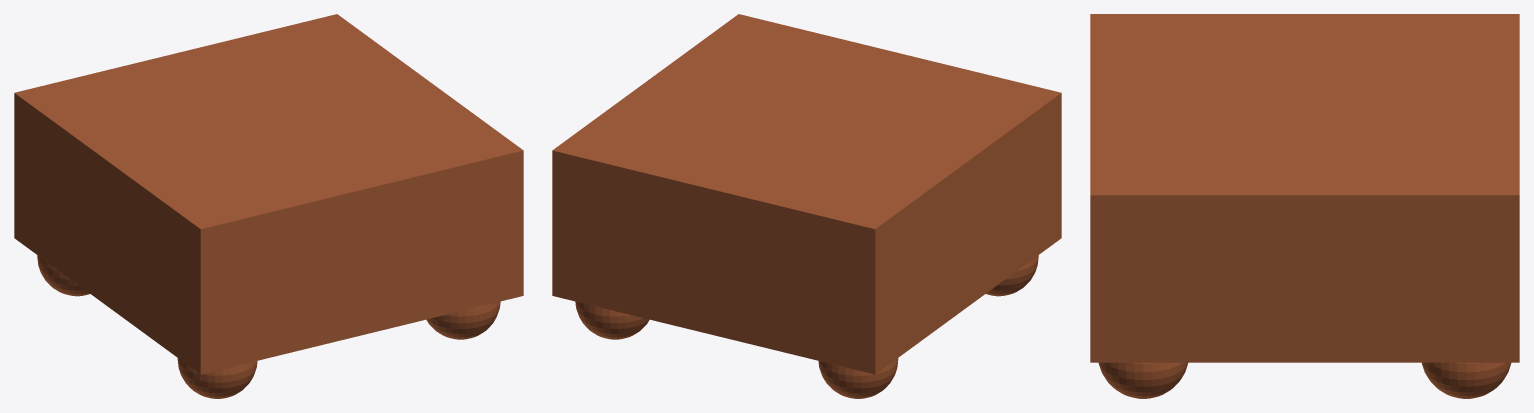
The model's file is MainTable.fbx.
The picture shows the model from 3 angles, left to right: view 1: azimuth 30°, elevation 25°; view 2: azimuth 150°, elevation 25°; view 3: azimuth 270°, elevation 25°; orthographic projection. The views are drawn at different scales.
Visible parts, largest first — view 1: MainDodai; view 2: MainDodai; view 3: MainDodai.
Part boxes in pixels (x1,y1,x2,y2): MainDodai: [14, 14, 523, 398]; MainDodai: [552, 14, 1061, 398]; MainDodai: [1090, 14, 1519, 398].
Size of the model in its own units: 9.3 by 5.3 by 9.3.
